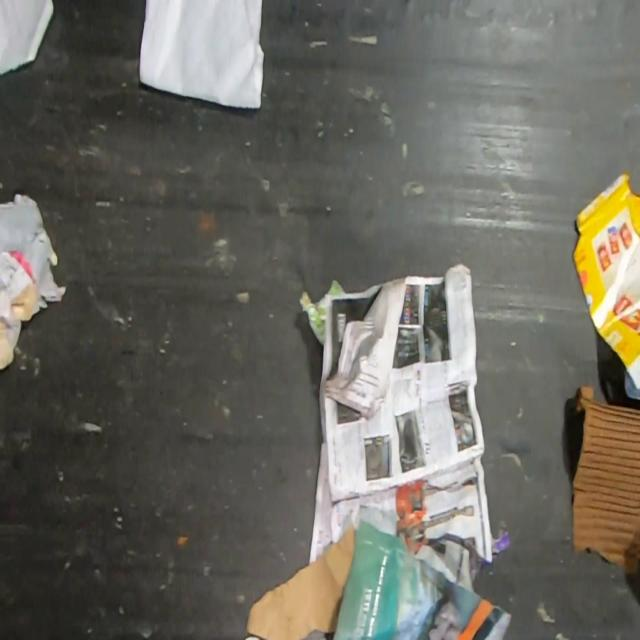cardboard: (572, 171, 640, 391), (242, 519, 355, 640), (570, 383, 640, 577)
soft_plastic: (0, 193, 65, 313)
